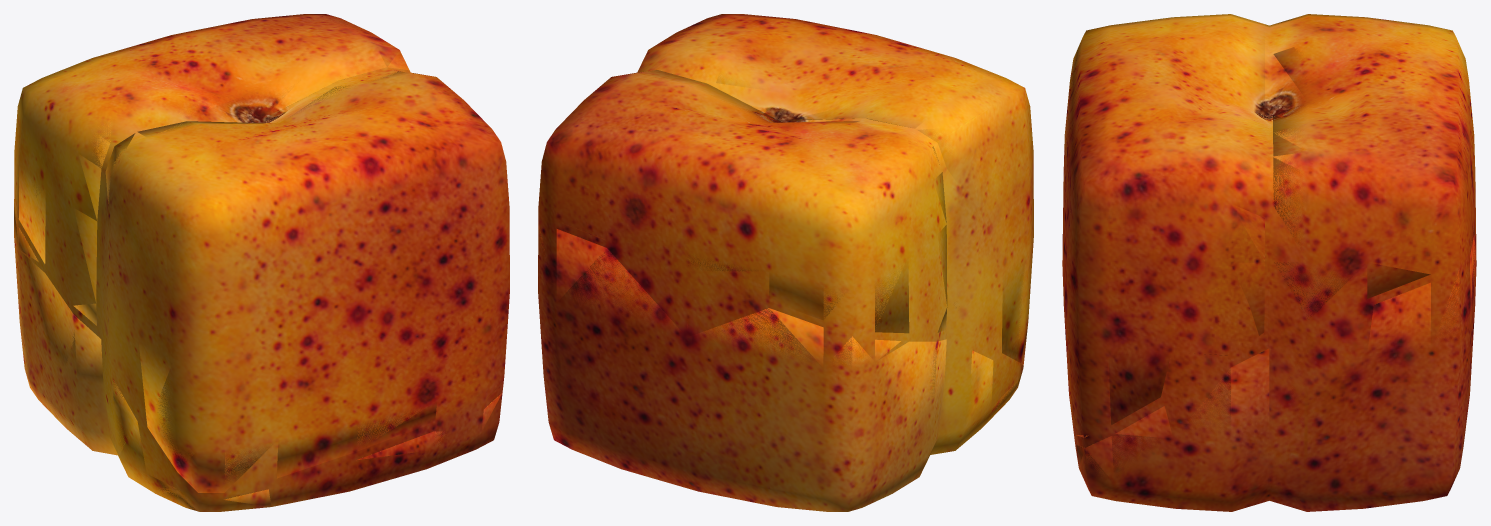
The model's file is SqApricot.fbx.
3 views of the same model, side by side, from view 1: azimuth 30°, elevation 25°; view 2: azimuth 150°, elevation 25°; view 3: azimuth 270°, elevation 25° (orthographic). The views are drawn at different scales.
Visible parts, largest first — view 1: SqApricot, SqApricot_cell.002, SqApricot_cell.001, SqApricot_cell; view 2: SqApricot, SqApricot_cell, SqApricot_cell.001, SqApricot_cell.002; view 3: SqApricot, SqApricot_cell.002, SqApricot_cell, SqApricot_cell.001.
Part boxes in pixels (bbox=[...]): SqApricot: bbox=[14, 14, 509, 511]; SqApricot_cell.002: bbox=[105, 71, 509, 492]; SqApricot_cell.001: bbox=[14, 14, 409, 325]; SqApricot_cell: bbox=[14, 203, 502, 511]; SqApricot: bbox=[538, 14, 1033, 511]; SqApricot_cell: bbox=[538, 222, 1017, 511]; SqApricot_cell.001: bbox=[542, 70, 947, 333]; SqApricot_cell.002: bbox=[638, 14, 1028, 365]; SqApricot: bbox=[1068, 14, 1476, 511]; SqApricot_cell.002: bbox=[1062, 15, 1264, 437]; SqApricot_cell: bbox=[1074, 235, 1476, 511]; SqApricot_cell.001: bbox=[1273, 16, 1475, 319].
Size of the model in its own units: 9.93 by 10.42 by 9.96.
